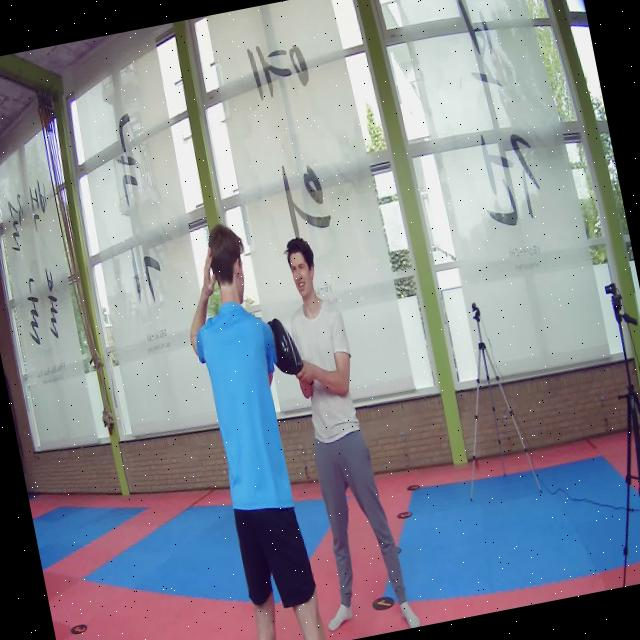paddle: (268, 319, 305, 376)
